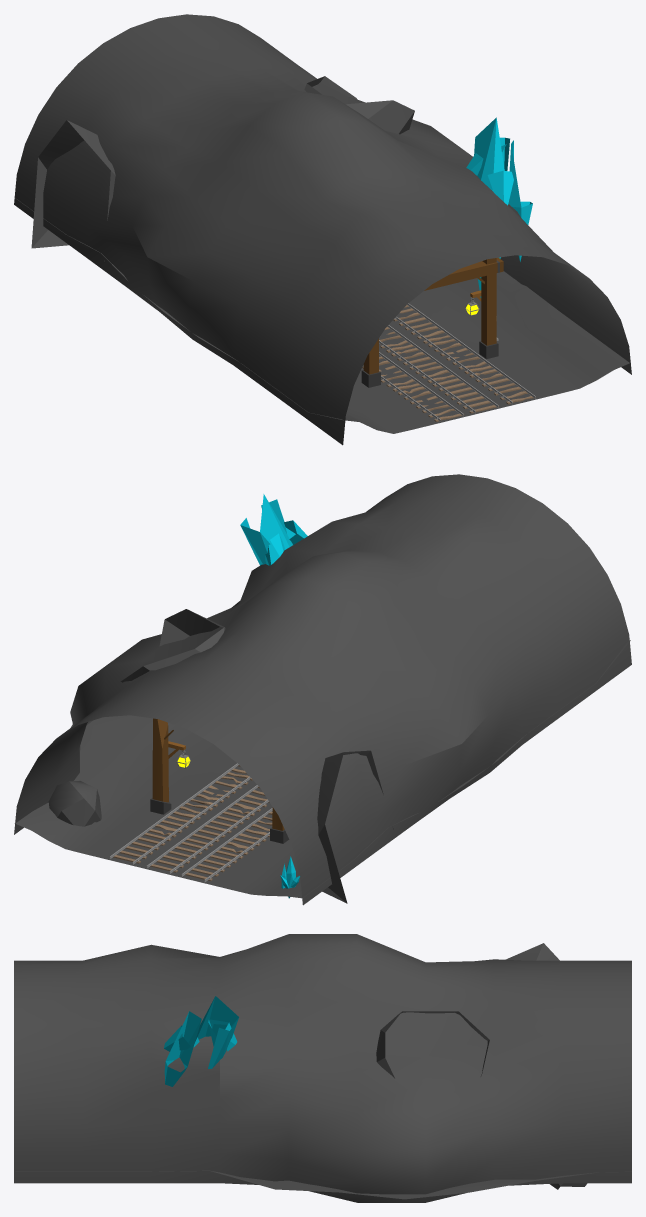
File: Modulo 3.fbx
3 renders of one model, top to bottom at view 1: azimuth 30°, elevation 25°; view 2: azimuth 150°, elevation 25°; view 3: azimuth 270°, elevation 25°, orthographic. The views are drawn at different scales.
Visible parts, largest first — view 1: Plane.005; view 2: Plane.005; view 3: Plane.005.
Boxes of the visible parts, left/top/right/bottom form: Plane.005: left=14, top=14, right=631, bottom=445; Plane.005: left=14, top=474, right=631, bottom=905; Plane.005: left=14, top=934, right=631, bottom=1202.
Size of the model in its own units: 3024 by 1626 by 4761.
